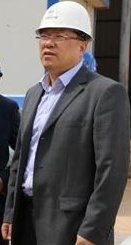hard-hat: (35, 1, 94, 41)
